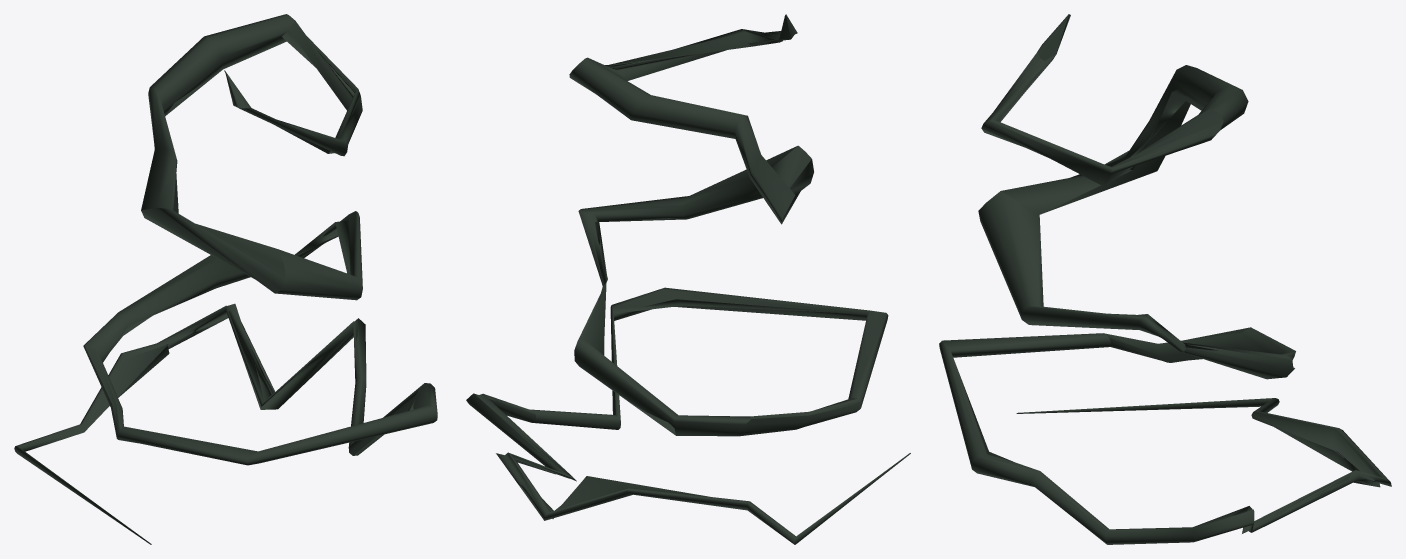
3 renders of one model, left to right at view 1: azimuth 30°, elevation 25°; view 2: azimuth 150°, elevation 25°; view 3: azimuth 270°, elevation 25°, orthographic. The views are drawn at different scales.
Parts seen in each view (by area): view 1: pasted__sweep1; view 2: pasted__sweep1; view 3: pasted__sweep1.
Boxes of the visible parts, bbox=[...] form: pasted__sweep1: bbox=[14, 14, 437, 544]; pasted__sweep1: bbox=[466, 14, 910, 544]; pasted__sweep1: bbox=[939, 14, 1391, 544].
Size of the model in its own units: 2.64 by 3.24 by 2.93.
Materials: 1 (1 with a texture image).
